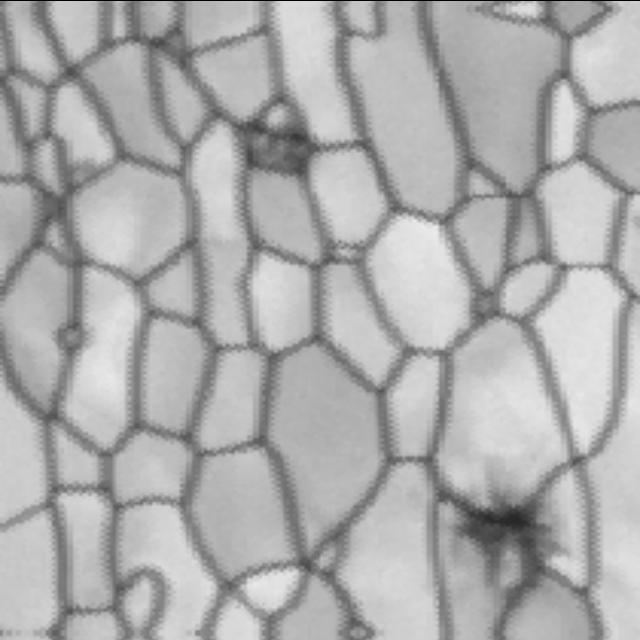good_void: (427, 469, 582, 601), (240, 106, 329, 187)
